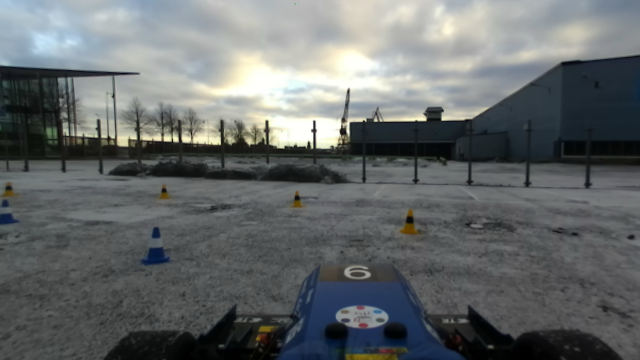blue: (141, 226, 171, 267), (1, 196, 18, 228)
yellow: (400, 206, 419, 234)
